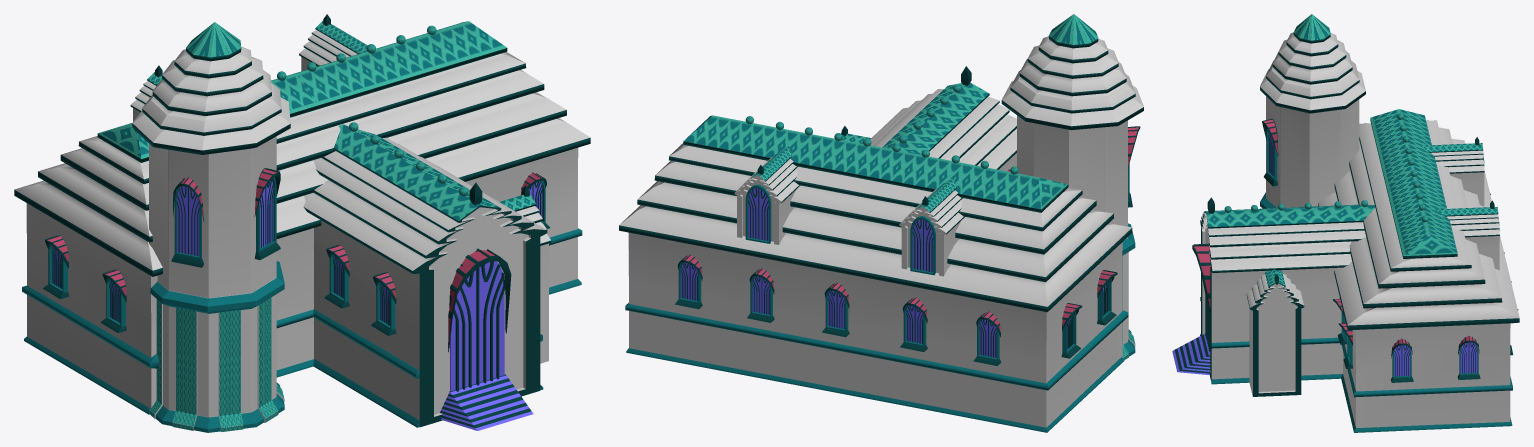
Rendered from Maison2.obj.
The picture shows the model from 3 angles, left to right: view 1: azimuth 30°, elevation 25°; view 2: azimuth 150°, elevation 25°; view 3: azimuth 270°, elevation 25°; orthographic projection. The views are drawn at different scales.
Parts seen in each view (by area): view 1: polySurface7230; view 2: polySurface7230; view 3: polySurface7230.
Part boxes in pixels (left/top/right/bottom): polySurface7230: left=14, top=14, right=590, bottom=432; polySurface7230: left=619, top=14, right=1143, bottom=432; polySurface7230: left=1172, top=14, right=1519, bottom=432.
Bounding box in the file's own units: 1.62 × 1.2 × 1.36.
